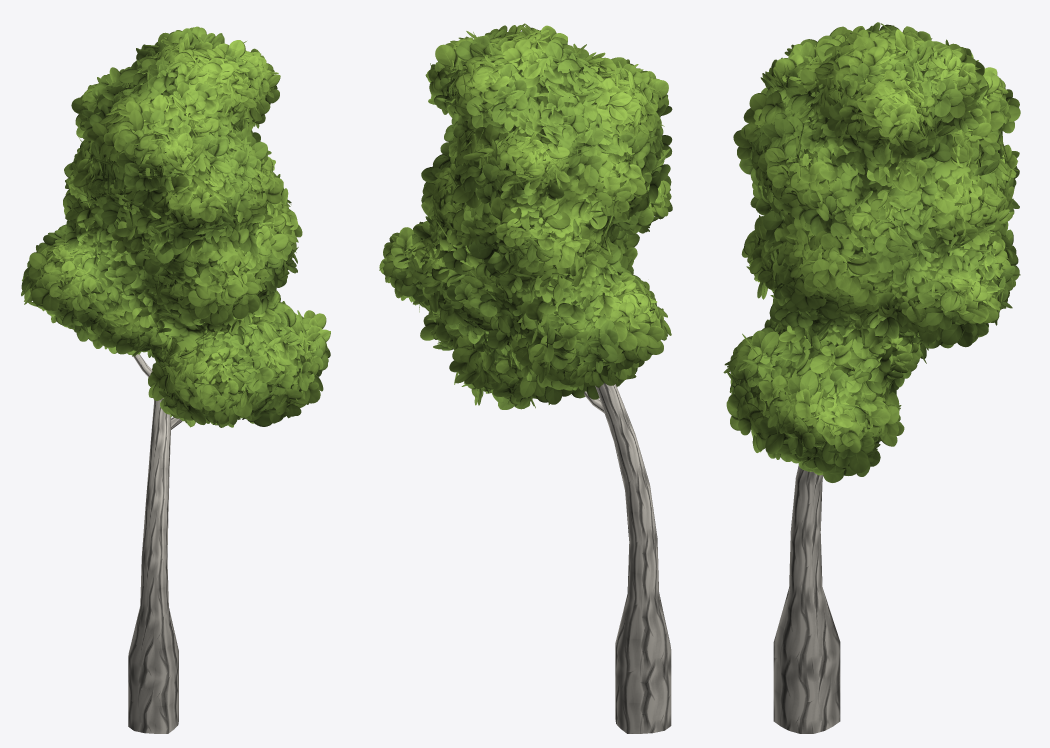
File: birch_v2.gltf
The picture shows the model from 3 angles, left to right: view 1: azimuth 30°, elevation 25°; view 2: azimuth 150°, elevation 25°; view 3: azimuth 270°, elevation 25°; orthographic projection. The views are drawn at different scales.
Visible parts, largest first — view 1: birch_v2_leaves_LOD0, birch_v2_volume_LOD0, birch_v2_trunk_LOD0; view 2: birch_v2_leaves_LOD0, birch_v2_volume_LOD0, birch_v2_trunk_LOD0; view 3: birch_v2_leaves_LOD0, birch_v2_volume_LOD0, birch_v2_trunk_LOD0.
Part boxes in pixels (x1,y1,x2,y2): birch_v2_leaves_LOD0: [21, 26, 330, 427]; birch_v2_volume_LOD0: [39, 43, 311, 415]; birch_v2_trunk_LOD0: [128, 354, 182, 733]; birch_v2_leaves_LOD0: [379, 23, 672, 409]; birch_v2_volume_LOD0: [401, 35, 657, 390]; birch_v2_trunk_LOD0: [584, 383, 671, 733]; birch_v2_leaves_LOD0: [723, 22, 1020, 482]; birch_v2_volume_LOD0: [740, 35, 1005, 457]; birch_v2_trunk_LOD0: [773, 465, 840, 733].
Size of what is drawn, in the model's own units: 5.45 by 12.38 by 4.89.
Materials: 3 (3 with a texture image).
